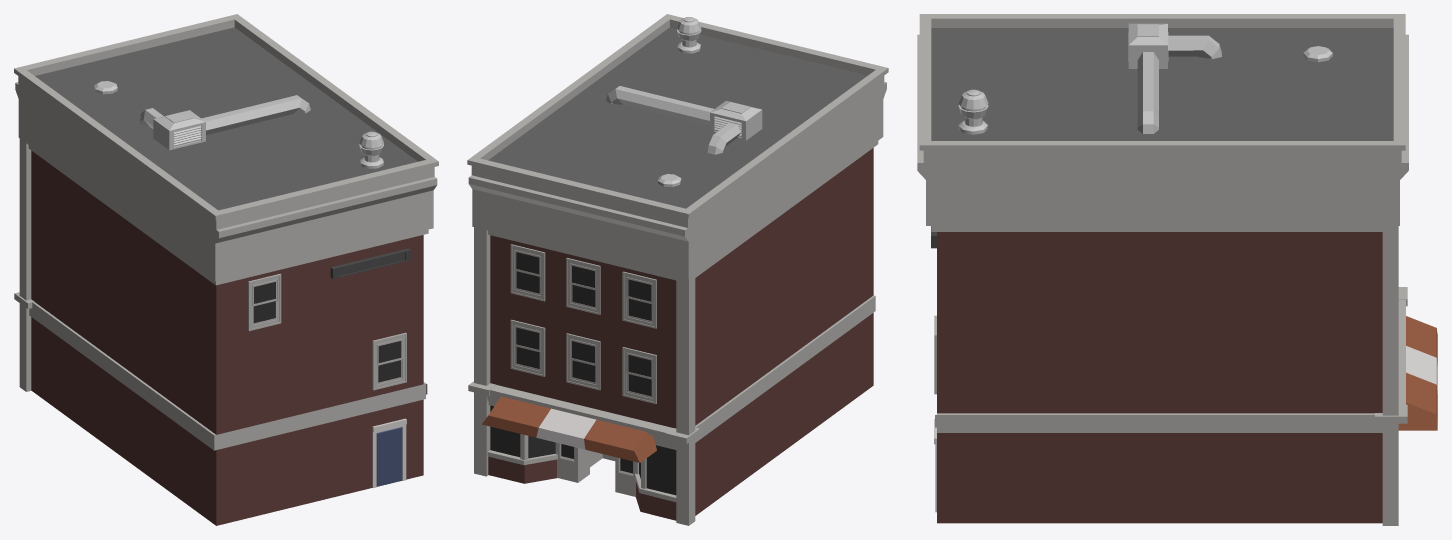
The model's file is store2.fbx.
3 views of the same model, side by side, from view 1: azimuth 30°, elevation 25°; view 2: azimuth 150°, elevation 25°; view 3: azimuth 270°, elevation 25° (orthographic). The views are drawn at different scales.
Parts seen in each view (by area): view 1: store1, pCube1106, pCylinder11, pCube1096, pCube1117, pCube1130, door_plain3, roofthing2, windowframe_plain19, windowframe_plain20; view 2: store1, awningorange, pCube1106, pCube1102, doorframe, pCylinder11, pCube1117, windowframe_plain14, windowframe_plain17, windowframe_plain12, windowframe_plain15, windowframe_plain16 (+3 smaller); view 3: store1, pCube1102, awningorange, pCylinder11, pCube1117, pCylinder13, roofthing2.
Boxes of the visible parts, box(x1,y1,x2,y2) form: store1: box(14, 14, 438, 525); pCube1106: box(14, 138, 34, 391); pCylinder11: box(201, 95, 310, 135); pCube1096: box(376, 427, 402, 486); pCube1117: box(153, 110, 205, 150); pCube1130: box(330, 248, 410, 278); door_plain3: box(372, 418, 406, 488); roofthing2: box(359, 131, 384, 168); windowframe_plain19: box(248, 273, 281, 331); windowframe_plain20: box(372, 332, 406, 390); store1: box(467, 14, 888, 520); awningorange: box(482, 396, 656, 462); pCube1106: box(666, 275, 699, 525); pCube1102: box(468, 227, 496, 476); doorframe: box(555, 442, 638, 496); pCylinder11: box(606, 86, 714, 125); pCube1117: box(710, 100, 762, 140); windowframe_plain14: box(510, 244, 545, 301); windowframe_plain17: box(510, 319, 545, 376); windowframe_plain12: box(622, 271, 656, 328); windowframe_plain15: box(622, 347, 656, 403); windowframe_plain16: box(566, 333, 600, 390); store1: box(917, 14, 1408, 523); pCube1102: box(1375, 226, 1407, 525); awningorange: box(1398, 316, 1437, 430); pCylinder11: box(1137, 52, 1158, 133); pCube1117: box(1128, 23, 1167, 68); pCylinder13: box(1168, 35, 1221, 58); roofthing2: box(958, 89, 988, 134).
Size of the model in its own units: 11.53 by 16.81 by 19.3.
